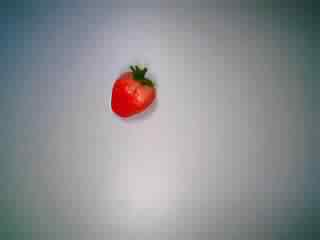strawberry: (98, 60, 164, 126)
